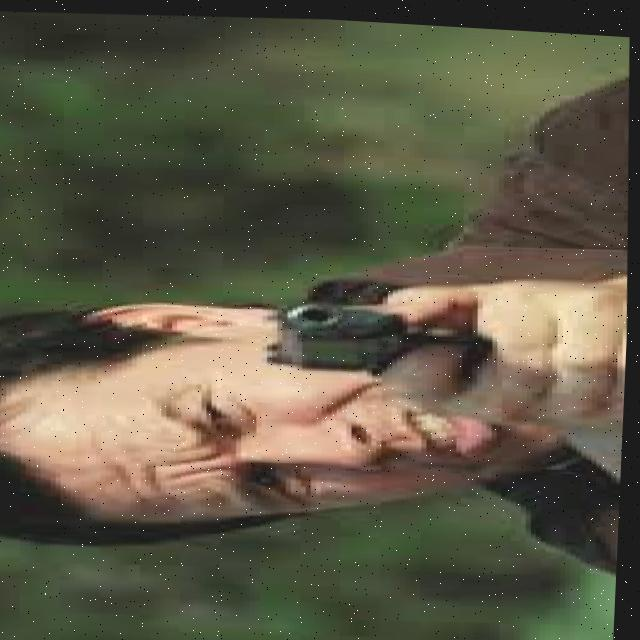pistol: (263, 290, 456, 376)
